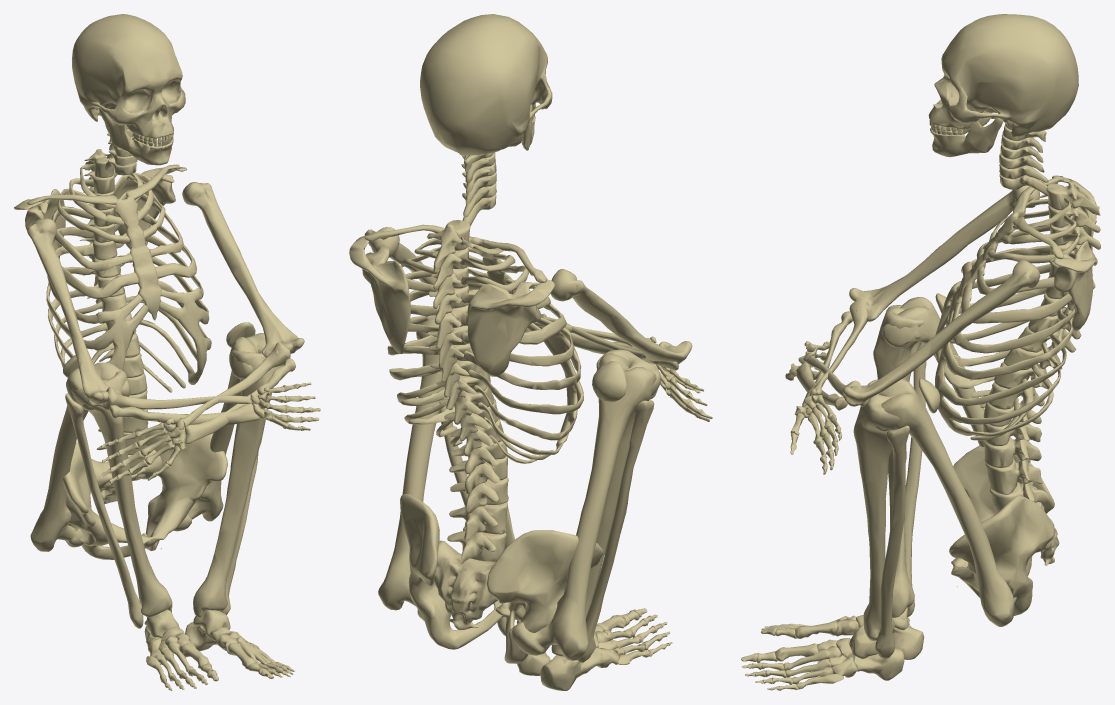
The model's file is skeleton-mother-sitting.glb.
3 renders of one model, left to right at view 1: azimuth 30°, elevation 25°; view 2: azimuth 150°, elevation 25°; view 3: azimuth 270°, elevation 25°, orthographic. The views are drawn at different scales.
Visible parts, largest first — view 1: Object_2; view 2: Object_2; view 3: Object_2.
Part boxes in pixels (x1,y1,x2,y2): Object_2: [14, 14, 320, 690]; Object_2: [349, 14, 712, 690]; Object_2: [741, 14, 1100, 690].
Size of the model in its own units: 3.63 by 9.29 by 4.66.
